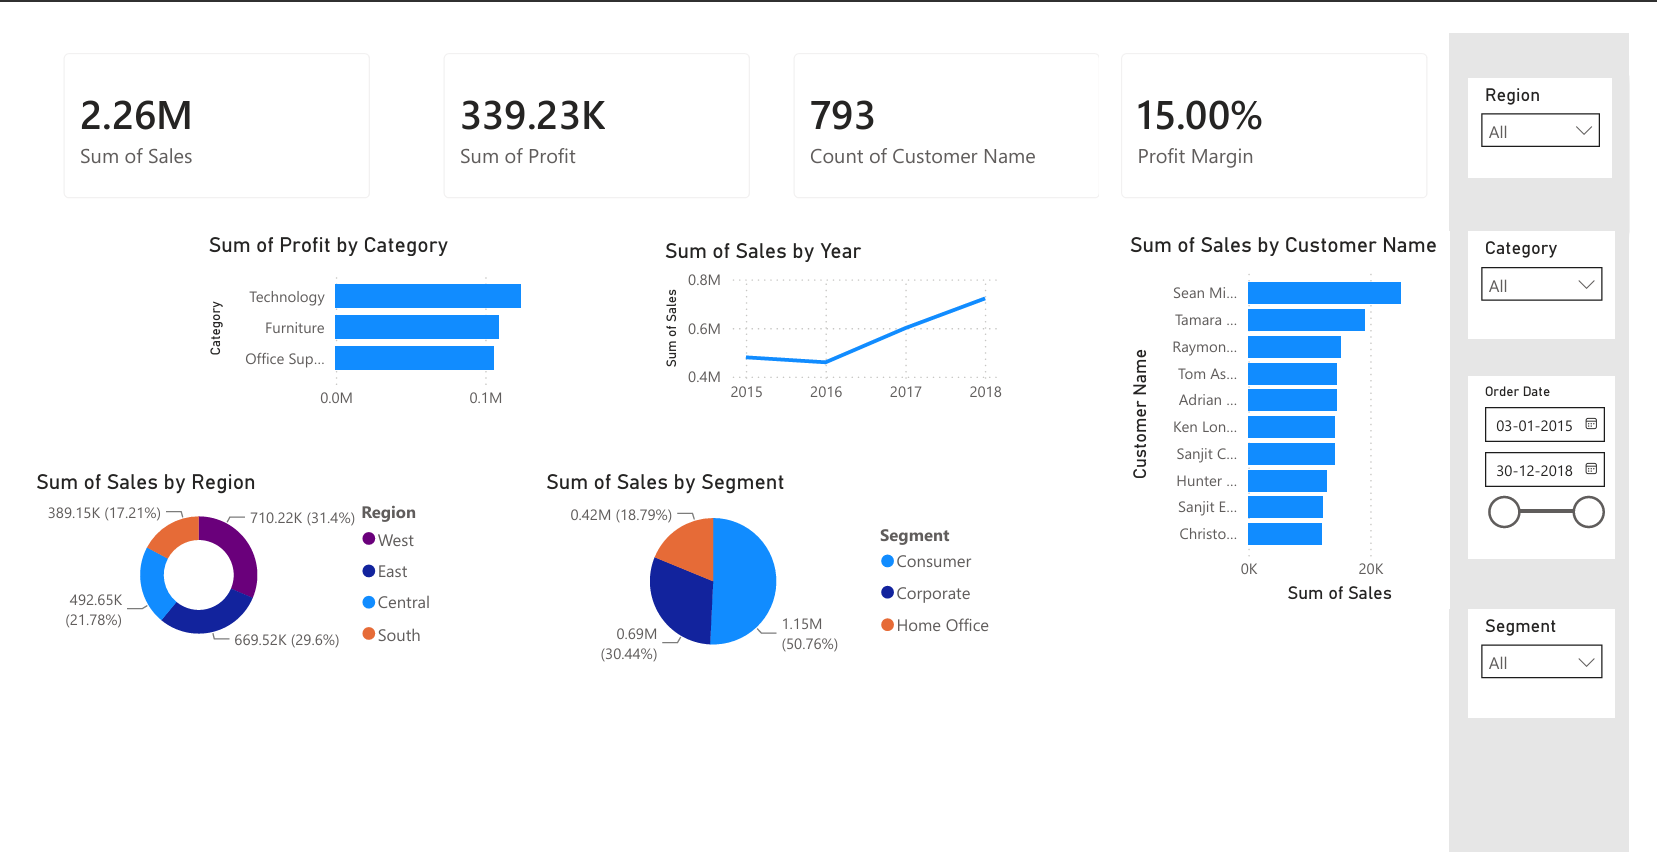

This screenshot's page, from the dashboard's own definition file:
{"tool":"powerbi","page":{"name":"Page 1","canvas":[1280,720],"ordinal":0},"visuals":[{"type":"shape","box":[1135.7,1.2,144.3,719],"z":0},{"type":"cardVisual","fields":{"Data":["Sum(train.Sales)"]},"box":[9.6,0,279.9,150.9],"z":1000},{"type":"cardVisual","fields":{"Data":["Sum(train.Profit)"]},"box":[314.2,0,279.9,150.9],"z":2000},{"type":"donutChart","fields":{"Category":["train.Region"],"Y":["Sum(train.Sales)"]},"box":[0,349.6,334.6,150.5],"z":3000},{"type":"clusteredBarChart","fields":{"Category":["train.Category"],"Y":["Sum(train.Profit)"]},"box":[138.1,160.5,304.8,150.5],"z":4000},{"type":"lineChart","fields":{"Category":["train.Order Date.Variation.Date Hierarchy.Year","train.Order Date.Variation.Date Hierarchy.Quarter","train.Order Date.Variation.Date Hierarchy.Month","train.Order Date.Variation.Date Hierarchy.Day"],"Y":["Sum(train.Sales)"]},"box":[502.6,165.4,279.9,140.6],"z":5000},{"type":"cardVisual","fields":{"Data":["Count(train.Customer Name)"]},"box":[594.2,0,279.9,150.9],"z":6000},{"type":"cardVisual","fields":{"Data":["train.Profit Margin"]},"box":[855.8,0,279.9,150.5],"z":7000},{"type":"clusteredBarChart","fields":{"Category":["train.Customer Name"],"Y":["Sum(train.Sales)"]},"box":[874.5,160.5,261.2,301],"z":8000},{"type":"pieChart","fields":{"Category":["train.Segment"],"Y":["Sum(train.Sales)"]},"box":[408,349.6,374.4,160.5],"z":9000},{"type":"slicer","fields":{"Values":["train.Region"]},"box":[1150.7,37.3,115.7,79.6],"z":10000},{"type":"slicer","fields":{"Values":["train.Category"]},"box":[1150.7,160.5,116.9,85.8],"z":10001},{"type":"slicer","fields":{"Values":["train.Order Date"]},"box":[1150.7,276.2,116.9,145.5],"z":10002},{"type":"slicer","fields":{"Values":["train.Segment"]},"box":[1150.7,461.5,116.9,87.1],"z":10003}]}

Visuals, with their boxes on the page's 1280x720 design canvas (x1, y1, x2, y2). These are canvas units, not pixel positions in the 1657x852 screenshot, which may show the page scaled, cropped or inside an application window:
shape: left=1136, top=1, right=1280, bottom=720
cardVisual - Sum(train.Sales): left=10, top=0, right=290, bottom=151
cardVisual - Sum(train.Profit): left=314, top=0, right=594, bottom=151
donutChart - train.Region x Sum(train.Sales): left=0, top=350, right=335, bottom=500
clusteredBarChart - train.Category x Sum(train.Profit): left=138, top=160, right=443, bottom=311
lineChart - train.Order Date.Variation.Date Hierarchy.Year x train.Order Date.Variation.Date Hierarchy.Quarter: left=503, top=165, right=782, bottom=306
cardVisual - Count(train.Customer Name): left=594, top=0, right=874, bottom=151
cardVisual - train.Profit Margin: left=856, top=0, right=1136, bottom=150
clusteredBarChart - train.Customer Name x Sum(train.Sales): left=874, top=160, right=1136, bottom=462
pieChart - train.Segment x Sum(train.Sales): left=408, top=350, right=782, bottom=510
slicer - train.Region: left=1151, top=37, right=1266, bottom=117
slicer - train.Category: left=1151, top=160, right=1268, bottom=246
slicer - train.Order Date: left=1151, top=276, right=1268, bottom=422
slicer - train.Segment: left=1151, top=462, right=1268, bottom=549
